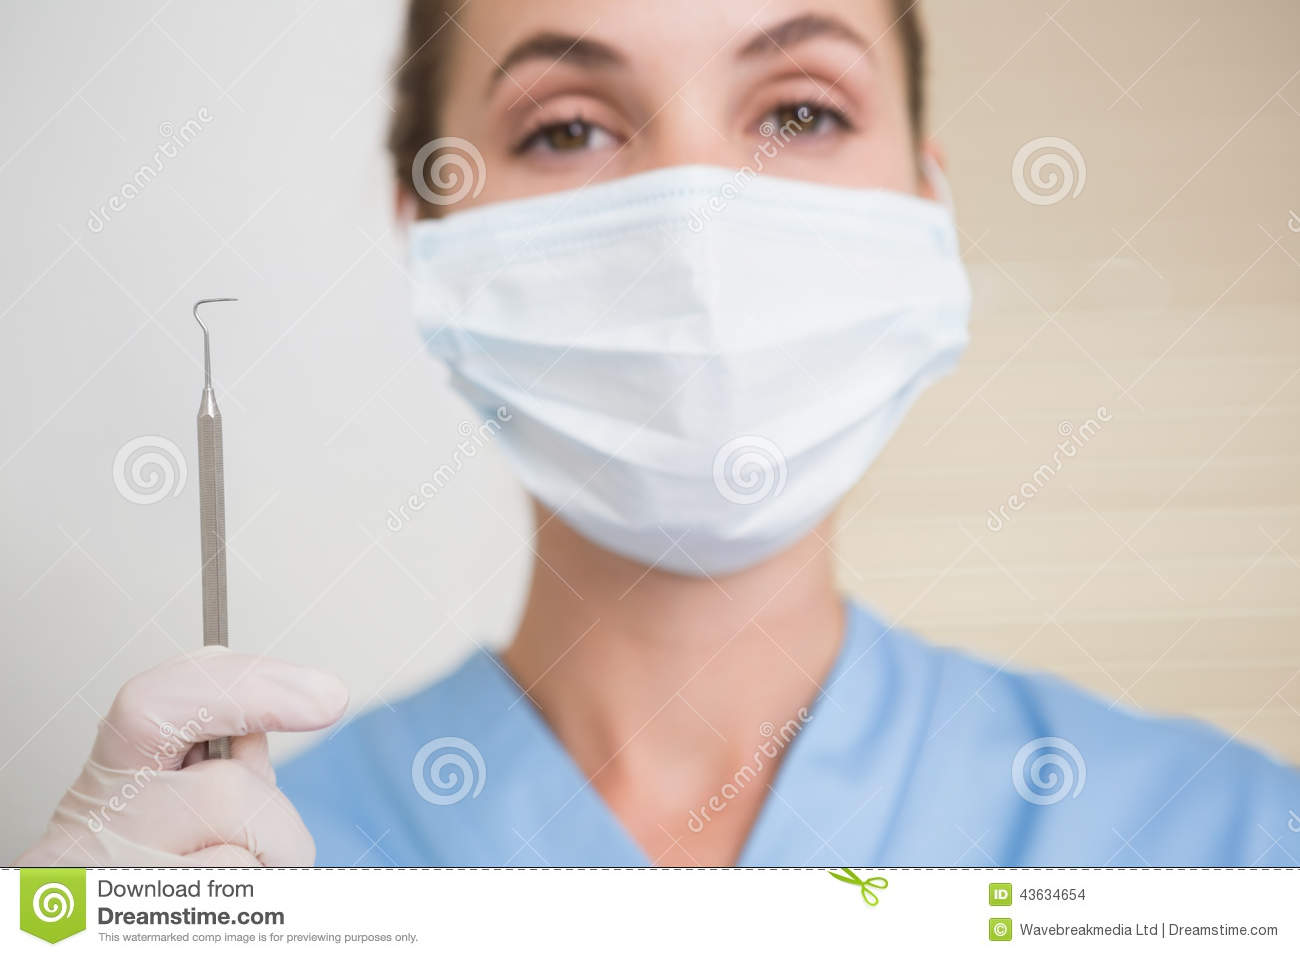mask: (398, 182, 981, 571)
